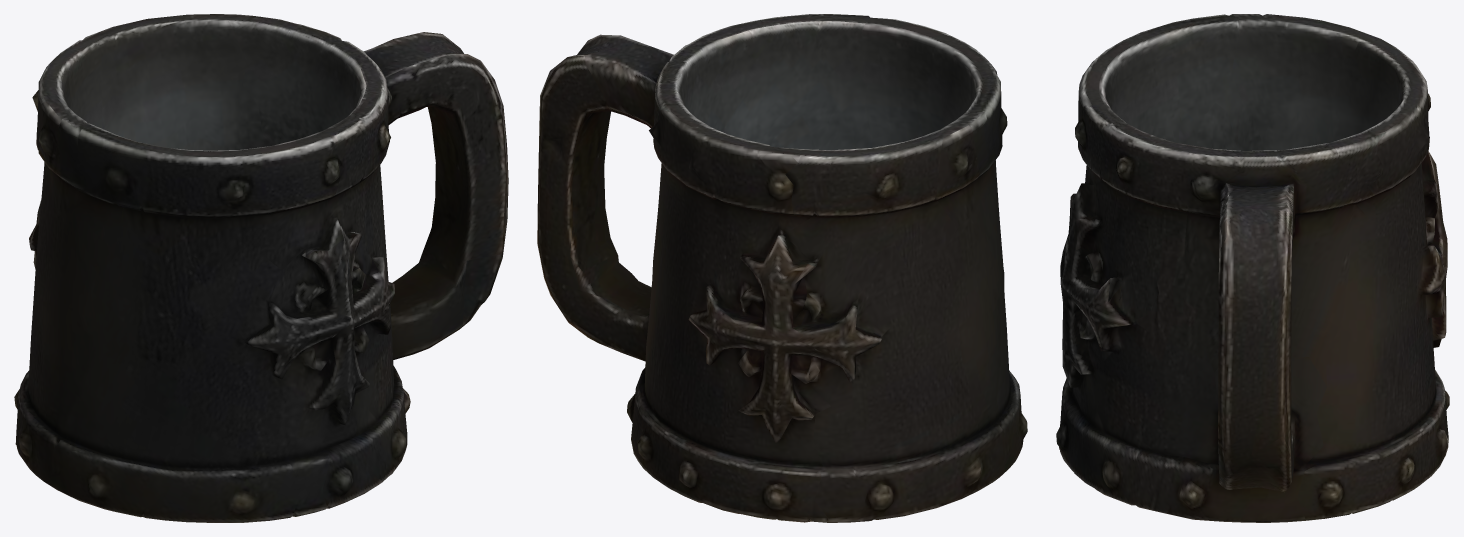
Rendered from cup_pint.fbx.
3 views of the same model, side by side, from view 1: azimuth 30°, elevation 25°; view 2: azimuth 150°, elevation 25°; view 3: azimuth 270°, elevation 25° (orthographic).
Parts seen in each view (by area): view 1: cup_pint; view 2: cup_pint; view 3: cup_pint.
Boxes of the visible parts, x1,y1,x2,y2 form: cup_pint: (14, 14, 508, 522); cup_pint: (537, 14, 1027, 522); cup_pint: (1056, 14, 1449, 522).
Bounding box in the file's own units: 41.06 × 31.16 × 30.95.
Materials: 1 (1 with a texture image).
